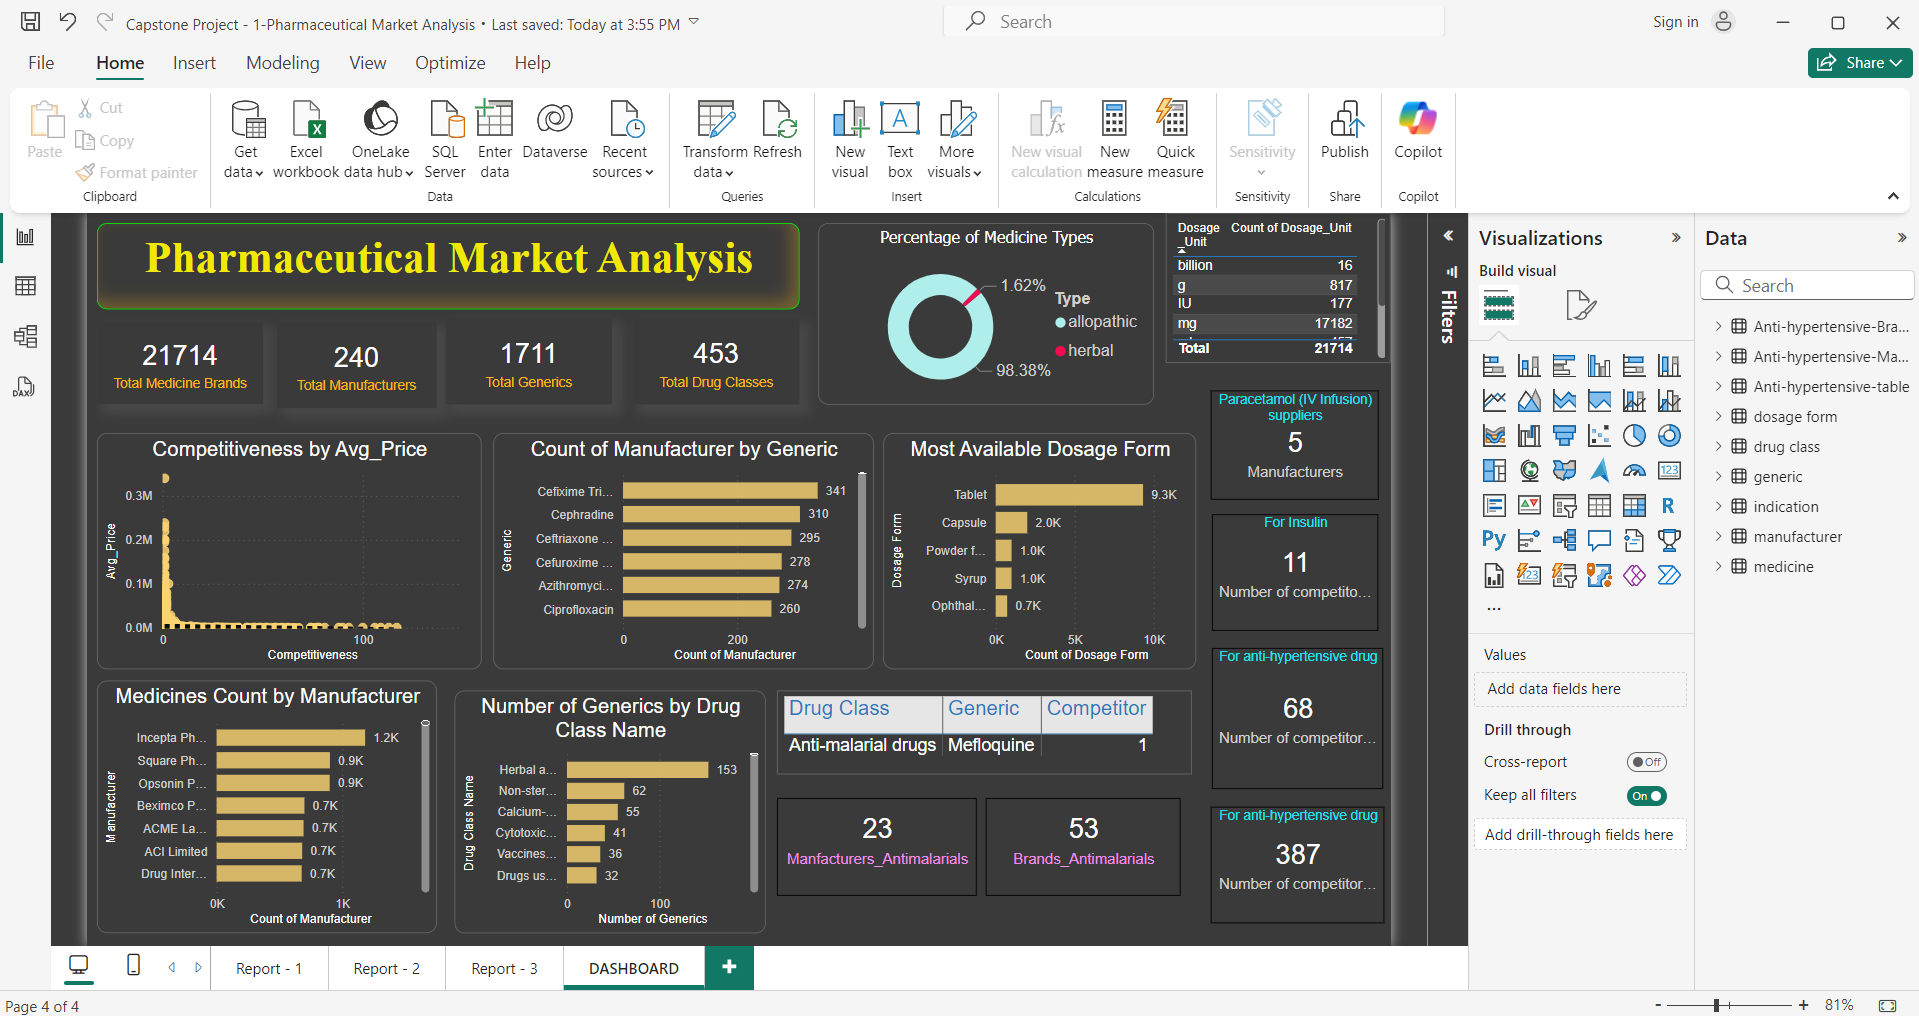

Layout of this report page (visuals, bound fields, positions):
{"tool":"powerbi","page":{"name":"DASHBOARD","canvas":[1280,720],"ordinal":3},"visuals":[{"type":"textbox","box":[9.8,9.8,689.6,84.7],"z":0},{"type":"card","fields":{"Values":["CountNonNull(medicine.brand id)"]},"box":[9.6,107,163.3,81],"z":1},{"type":"card","fields":{"Values":["CountNonNull(manufacturer.manufacturer id)"]},"box":[186.6,107,156.4,85.1],"z":2},{"type":"card","fields":{"Values":["CountNonNull(generic.generic id)"]},"box":[352.7,102.9,163.3,85.1],"z":3},{"type":"card","fields":{"Values":["CountNonNull(drug class.drug class id)"]},"box":[536.5,102.9,163.3,85.1],"z":4},{"type":"donutChart","title":"Percentage of Medicine Types","fields":{"Category":["medicine.type"],"Y":["CountNonNull(medicine.brand id)"]},"box":[717.7,9.6,329.3,178.4],"z":6},{"type":"scatterChart","fields":{"Y":["medicine.Avg_Price"],"X":["medicine.manufacturer"]},"box":[9.6,215.4,377.4,231.9],"z":7},{"type":"clusteredBarChart","title":"Count of Manufacturer by Generic","fields":{"Category":["medicine.generic"],"Y":["CountNonNull(medicine.manufacturer)"]},"box":[399.3,215.4,373.2,231.9],"z":9},{"type":"clusteredBarChart","title":"Number of Generics by Drug Class Name","fields":{"Category":["drug class.drug class name"],"Y":["Sum(drug class.generics count)"]},"box":[360.7,468.7,305.5,238],"z":10},{"type":"card","title":"For anti-hypertensive drug","fields":{"Values":["CountNonNull(Anti-hypertensive-Brands.medicine.brand name)"]},"box":[1103.1,582.8,170.6,114.1],"z":11},{"type":"card","title":"For anti-hypertensive drug","fields":{"Values":["CountNonNull(Anti-hypertensive-Manufacturers.medicine.manufacturer)"]},"box":[1104.3,427,168.1,138.7],"z":12},{"type":"card","title":" Paracetamol (IV Infusion) suppliers","fields":{"Values":["Count(medicine.manufacturer)"]},"box":[1103.3,174.3,164.7,107],"z":13},{"type":"card","title":"For Insulin","fields":{"Values":["Count(medicine.manufacturer)"]},"box":[1104.3,295.7,163.2,114.1],"z":14},{"type":"clusteredBarChart","title":"Medicines Count by Manufacturer","fields":{"Category":["medicine.manufacturer"],"Y":["CountNonNull(medicine.manufacturer)"]},"box":[9.8,458.9,333.7,247.9],"z":15},{"type":"tableEx","fields":{"Values":["medicine.Dosage_Unit","CountNonNull(medicine.Dosage_Unit)"]},"box":[1059.4,0,220.9,146.8],"z":16},{"type":"barChart","title":"Most Available Dosage Form  ","fields":{"Category":["medicine.dosage form"],"Y":["CountNonNull(medicine.dosage form)"]},"box":[782.2,215.4,307.4,231.9],"z":17},{"type":"tableEx","fields":{"Values":["generic.drug class","generic.generic name","medicine.generic"]},"box":[677.3,468.7,407.4,82.2],"z":18},{"type":"card","fields":{"Values":["Count(medicine.manufacturer)"]},"box":[677.3,574.2,196.3,95.7],"z":19},{"type":"card","fields":{"Values":["CountNonNull(medicine.brand name)"]},"box":[882.2,574.2,191.4,95.7],"z":20}]}

Visuals, with their boxes on the page's 1280x720 design canvas (x1, y1, x2, y2). These are canvas units, not pixel positions in the 1919x1016 screenshot, which may show the page scaled, cropped or inside an application window:
textbox: locate(10, 10, 699, 94)
card - CountNonNull(medicine.brand id): locate(10, 107, 173, 188)
card - CountNonNull(manufacturer.manufacturer id): locate(187, 107, 343, 192)
card - CountNonNull(generic.generic id): locate(353, 103, 516, 188)
card - CountNonNull(drug class.drug class id): locate(536, 103, 700, 188)
"Percentage of Medicine Types" donutChart: locate(718, 10, 1047, 188)
scatterChart - medicine.Avg_Price x medicine.manufacturer: locate(10, 215, 387, 447)
"Count of Manufacturer by Generic" clusteredBarChart: locate(399, 215, 772, 447)
"Number of Generics by Drug Class Name" clusteredBarChart: locate(361, 469, 666, 707)
"For anti-hypertensive drug" card: locate(1103, 583, 1274, 697)
"For anti-hypertensive drug" card: locate(1104, 427, 1272, 566)
" Paracetamol (IV Infusion) suppliers" card: locate(1103, 174, 1268, 281)
"For Insulin" card: locate(1104, 296, 1268, 410)
"Medicines Count by Manufacturer" clusteredBarChart: locate(10, 459, 344, 707)
tableEx - medicine.Dosage_Unit x CountNonNull(medicine.Dosage_Unit): locate(1059, 0, 1280, 147)
"Most Available Dosage Form  " barChart: locate(782, 215, 1090, 447)
tableEx - generic.drug class x generic.generic name: locate(677, 469, 1085, 551)
card - Count(medicine.manufacturer): locate(677, 574, 874, 670)
card - CountNonNull(medicine.brand name): locate(882, 574, 1074, 670)
